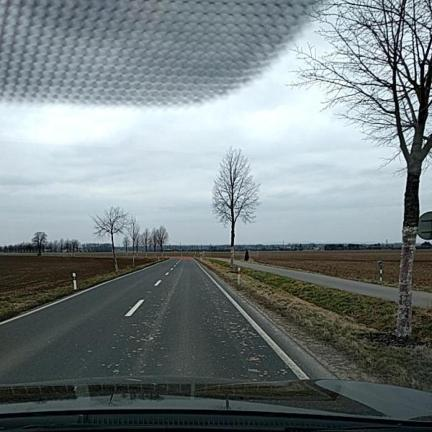Road: (0, 259, 329, 383), (235, 261, 398, 302)
